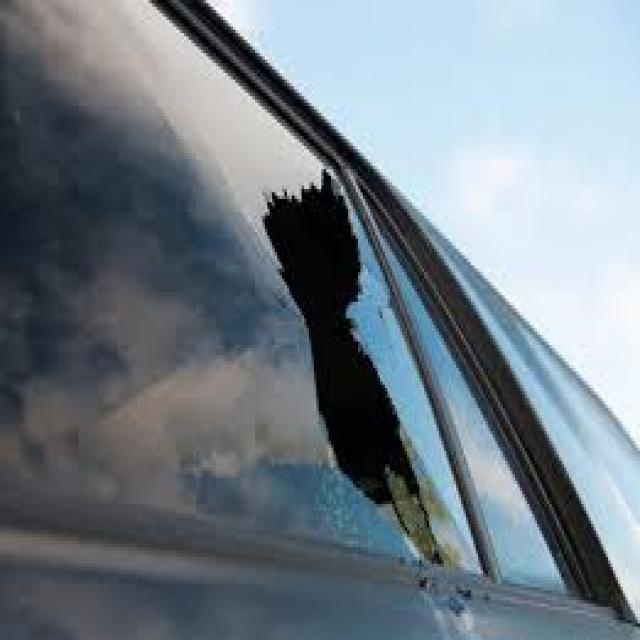damaged-window: (2, 0, 604, 607)
